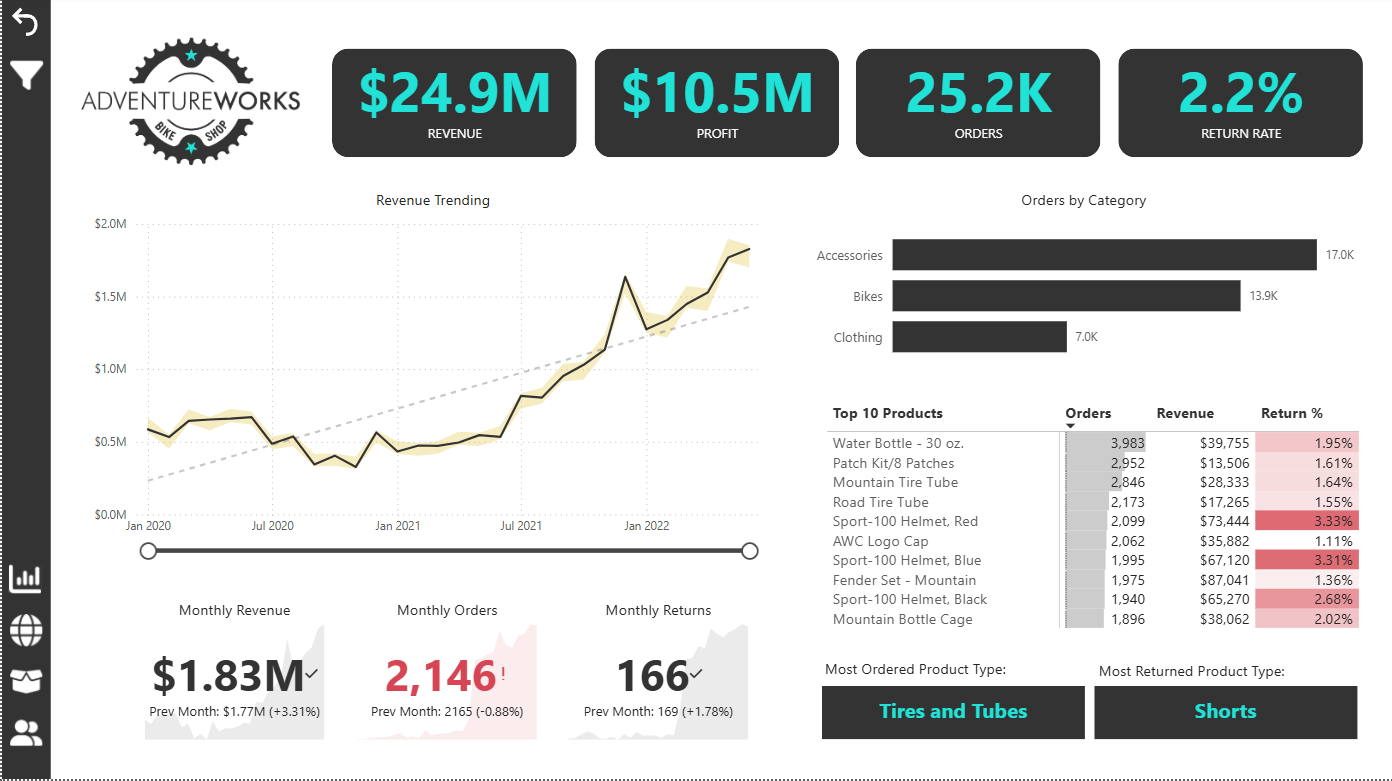

This screenshot's page, from the dashboard's own definition file:
{"tool":"powerbi","page":{"name":"Exec Dashboard","canvas":[1280,720],"ordinal":0},"visuals":[{"type":"card","fields":{"Values":["Measure Table.Total Revenue"]},"box":[288.1,17.8,256.2,150],"z":0,"group":"g2"},{"type":"image","title":"AW Logo","box":[45.6,26.6,256.2,141.2],"z":0},{"type":"shape","box":[303.1,47.8,225,100],"z":0,"group":"g1"},{"type":"actionButton","box":[2.5,516.7,45.6,37.8],"z":0,"group":"g3"},{"type":"card","fields":{"Values":["Measure Table.Total Profit"]},"box":[528.9,17.8,256.2,150],"z":1000,"group":"g2"},{"type":"shape","box":[543.9,47.8,225,100],"z":1000,"group":"g1"},{"type":"actionButton","box":[3.3,563.4,45.6,37.8],"z":1000,"group":"g3"},{"type":"card","fields":{"Values":["Measure Table.Total Orders"]},"box":[769.8,17.8,256.2,150],"z":2000,"group":"g2"},{"type":"group","id":"g1","title":"KPI Backgrounds","box":[303.1,47.8,947.5,100],"z":2000},{"type":"shape","box":[784.8,47.8,225,100],"z":2000,"group":"g1"},{"type":"actionButton","box":[3.3,611.1,45.6,37.8],"z":2000,"group":"g3"},{"type":"shape","title":"Left Nav Background","box":[0,0,45,720],"z":3000},{"type":"card","fields":{"Values":["Measure Table.Return Rate"]},"box":[1010.6,17.8,256.2,150],"z":3000,"group":"g2"},{"type":"shape","box":[1025.6,47.8,225,100],"z":3000,"group":"g1"},{"type":"actionButton","box":[3.3,657.8,45.6,37.8],"z":3000,"group":"g3"},{"type":"group","id":"g2","title":"KPI Values","box":[288.1,17.8,978.8,150],"z":4000},{"type":"lineChart","title":"Revenue Trending","fields":{"Y":["Measure Table.Total Revenue"],"Category":["Calendar Lookup.Start of Month"]},"box":[78.9,177.7,633.8,342.5],"z":5000},{"type":"kpi","title":"Monthly Revenue","fields":{"Indicator":["Measure Table.Total Revenue"],"TrendLine":["Calendar Lookup.Start of Month"],"Goal":["Measure Table.Previous Month Revenue"]},"box":[126.2,555,175,133.8],"z":6000},{"type":"kpi","title":"Monthly Orders","fields":{"TrendLine":["Calendar Lookup.Start of Month"],"Indicator":["Measure Table.Total Orders"],"Goal":["Measure Table.Previous Month Orders"]},"box":[321.2,555,175,133.8],"z":7000},{"type":"kpi","title":"Monthly Returns","fields":{"TrendLine":["Calendar Lookup.Start of Month"],"Indicator":["Measure Table.Total Returns"],"Goal":["Measure Table.Previous Month Returns"]},"box":[516.2,555,175,133.8],"z":8000},{"type":"clusteredBarChart","title":"Orders by Category","fields":{"Category":["Product Categories Lookup.CategoryName"],"Y":["Measure Table.Total Orders"]},"box":[738.9,177.7,511.2,171.2],"z":9000},{"type":"pivotTable","fields":{"Rows":["Product Lookup.ProductName"],"Values":["Measure Table.Total Orders","Measure Table.Total Revenue","Measure Table.Return Rate"]},"box":[753.7,369.2,511.1,228.4],"z":10000},{"type":"card","fields":{"Values":["Min(Product Subcategories Lookup.SubcategoryName)"]},"box":[753.7,634.2,241.4,48.5],"z":11000},{"type":"textbox","box":[751.3,604.6,198.8,35.5],"z":12000},{"type":"card","fields":{"Values":["Min(Product Subcategories Lookup.SubcategoryName)"]},"box":[1004.1,634.2,241.4,48.5],"z":13000},{"type":"textbox","box":[1002.2,605.2,198.8,35.5],"z":14000},{"type":"actionButton","box":[3.3,5.6,35.6,35.6],"z":15000},{"type":"group","id":"g3","title":"Navigation Buttons","box":[2.5,516.7,46.4,178.9],"z":16000},{"type":"actionButton","box":[3.4,53.1,38.4,39.6],"z":17000}]}

Visuals, with their boxes on the page's 1280x720 design canvas (x1, y1, x2, y2). These are canvas units, not pixel positions in the 1392x781 screenshot, which may show the page scaled, cropped or inside an application window:
card - Measure Table.Total Revenue: {"x1": 288, "y1": 18, "x2": 544, "y2": 168}
"AW Logo" image: {"x1": 46, "y1": 27, "x2": 302, "y2": 168}
shape: {"x1": 303, "y1": 48, "x2": 528, "y2": 148}
actionButton: {"x1": 2, "y1": 517, "x2": 48, "y2": 554}
card - Measure Table.Total Profit: {"x1": 529, "y1": 18, "x2": 785, "y2": 168}
shape: {"x1": 544, "y1": 48, "x2": 769, "y2": 148}
actionButton: {"x1": 3, "y1": 563, "x2": 49, "y2": 601}
card - Measure Table.Total Orders: {"x1": 770, "y1": 18, "x2": 1026, "y2": 168}
"KPI Backgrounds" group: {"x1": 303, "y1": 48, "x2": 1251, "y2": 148}
shape: {"x1": 785, "y1": 48, "x2": 1010, "y2": 148}
actionButton: {"x1": 3, "y1": 611, "x2": 49, "y2": 649}
"Left Nav Background" shape: {"x1": 0, "y1": 0, "x2": 45, "y2": 720}
card - Measure Table.Return Rate: {"x1": 1011, "y1": 18, "x2": 1267, "y2": 168}
shape: {"x1": 1026, "y1": 48, "x2": 1251, "y2": 148}
actionButton: {"x1": 3, "y1": 658, "x2": 49, "y2": 696}
"KPI Values" group: {"x1": 288, "y1": 18, "x2": 1267, "y2": 168}
"Revenue Trending" lineChart: {"x1": 79, "y1": 178, "x2": 713, "y2": 520}
"Monthly Revenue" kpi: {"x1": 126, "y1": 555, "x2": 301, "y2": 689}
"Monthly Orders" kpi: {"x1": 321, "y1": 555, "x2": 496, "y2": 689}
"Monthly Returns" kpi: {"x1": 516, "y1": 555, "x2": 691, "y2": 689}
"Orders by Category" clusteredBarChart: {"x1": 739, "y1": 178, "x2": 1250, "y2": 349}
pivotTable - Product Lookup.ProductName x Measure Table.Total Orders: {"x1": 754, "y1": 369, "x2": 1265, "y2": 598}
card - Min(Product Subcategories Lookup.SubcategoryName): {"x1": 754, "y1": 634, "x2": 995, "y2": 683}
textbox: {"x1": 751, "y1": 605, "x2": 950, "y2": 640}
card - Min(Product Subcategories Lookup.SubcategoryName): {"x1": 1004, "y1": 634, "x2": 1246, "y2": 683}
textbox: {"x1": 1002, "y1": 605, "x2": 1201, "y2": 641}
actionButton: {"x1": 3, "y1": 6, "x2": 39, "y2": 41}
"Navigation Buttons" group: {"x1": 2, "y1": 517, "x2": 49, "y2": 696}
actionButton: {"x1": 3, "y1": 53, "x2": 42, "y2": 93}
